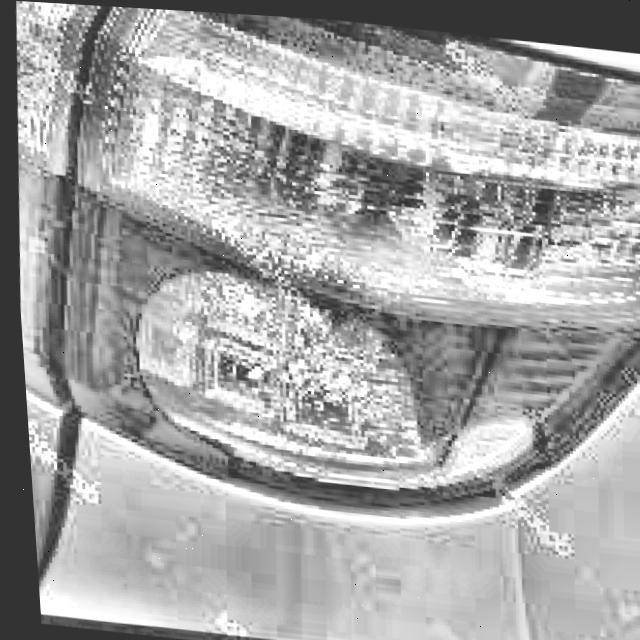tail_lamp: (138, 284, 528, 499)
